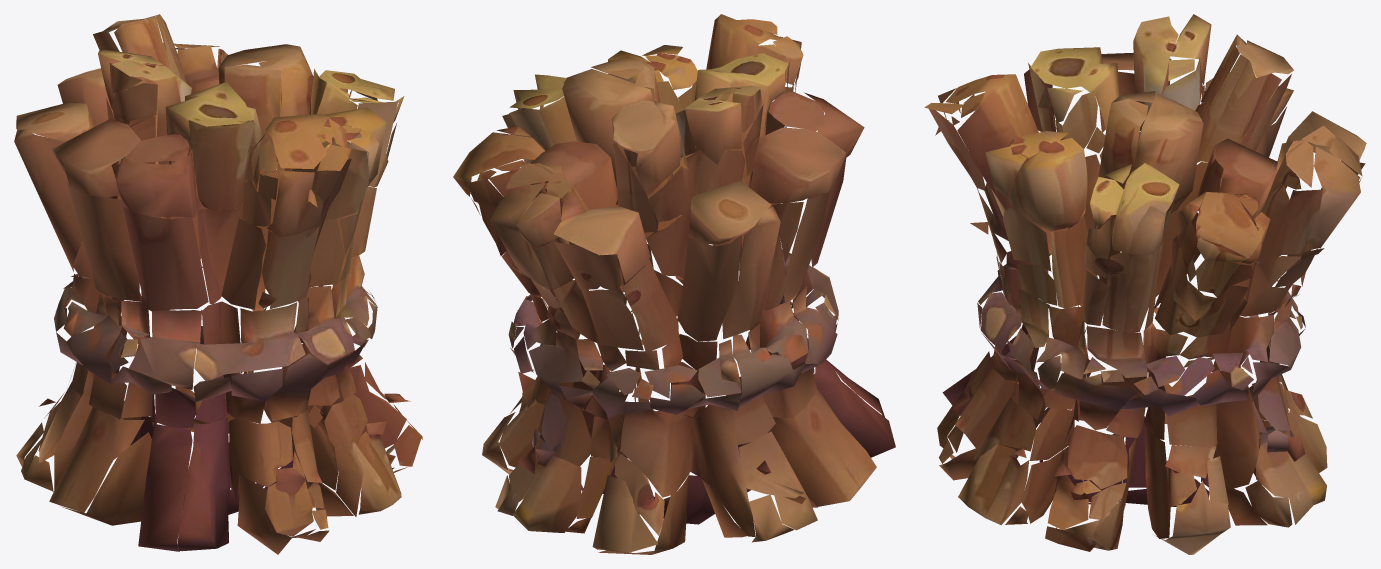
The model's file is feixe-lenha.glb.
3 renders of one model, left to right at view 1: azimuth 30°, elevation 25°; view 2: azimuth 150°, elevation 25°; view 3: azimuth 270°, elevation 25°, orthographic.
Visible parts, largest first — view 1: tripo_node_66b8fbef-1d16-473e-8089-60de21b7ef27; view 2: tripo_node_66b8fbef-1d16-473e-8089-60de21b7ef27; view 3: tripo_node_66b8fbef-1d16-473e-8089-60de21b7ef27.
Boxes of the visible parts, x1,y1,x2,y2 form: tripo_node_66b8fbef-1d16-473e-8089-60de21b7ef27: [14, 14, 422, 554]; tripo_node_66b8fbef-1d16-473e-8089-60de21b7ef27: [453, 14, 895, 554]; tripo_node_66b8fbef-1d16-473e-8089-60de21b7ef27: [924, 14, 1366, 554].
Size of the model in its own units: 0.8239 by 0.9996 by 0.9198.
1 material, 1 textured.
